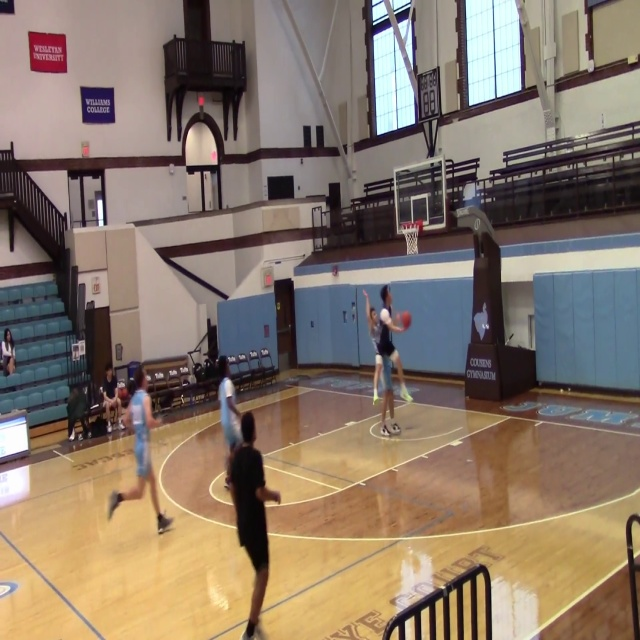Basketball: (396, 311, 411, 329), (117, 387, 128, 400)
